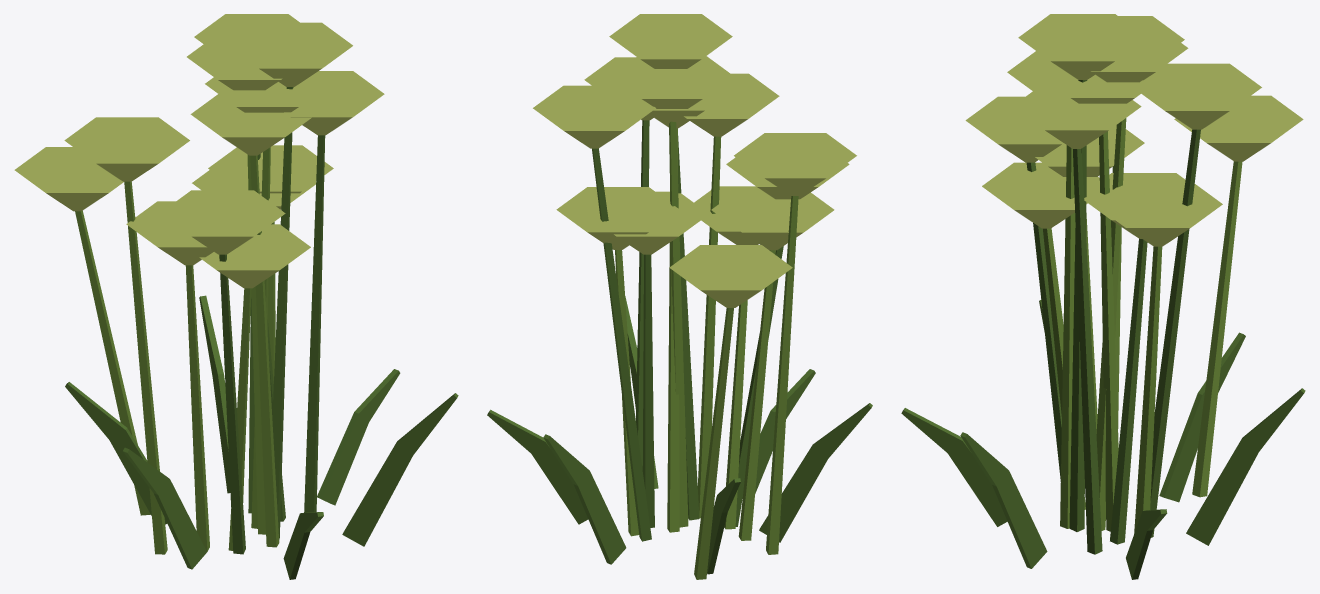
Rendered from desert_reeds.glb.
3 renders of one model, left to right at view 1: azimuth 30°, elevation 25°; view 2: azimuth 150°, elevation 25°; view 3: azimuth 270°, elevation 25°, orthographic. The views are drawn at different scales.
Visible parts, largest first — view 1: desert_reeds; view 2: desert_reeds; view 3: desert_reeds.
Part boxes in pixels (left/top/right/bottom): desert_reeds: left=14, top=14, right=458, bottom=579; desert_reeds: left=487, top=14, right=872, bottom=579; desert_reeds: left=901, top=14, right=1305, bottom=579.
Bounding box in the file's own units: 1.87 × 2.6 × 1.87.
